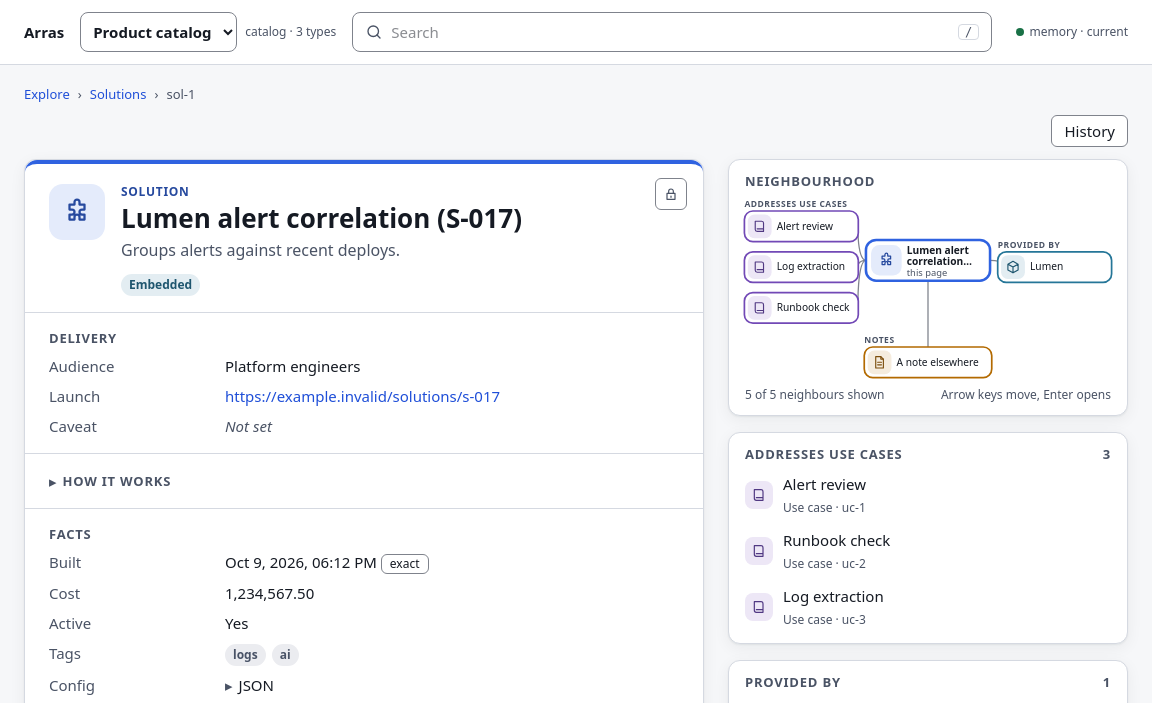
Test: Retire on a node page (FR-68) › shows a refusal in the dialog and applies nothing
Click the button named "Edit mode" at [671, 194], box [655,178,687,210]
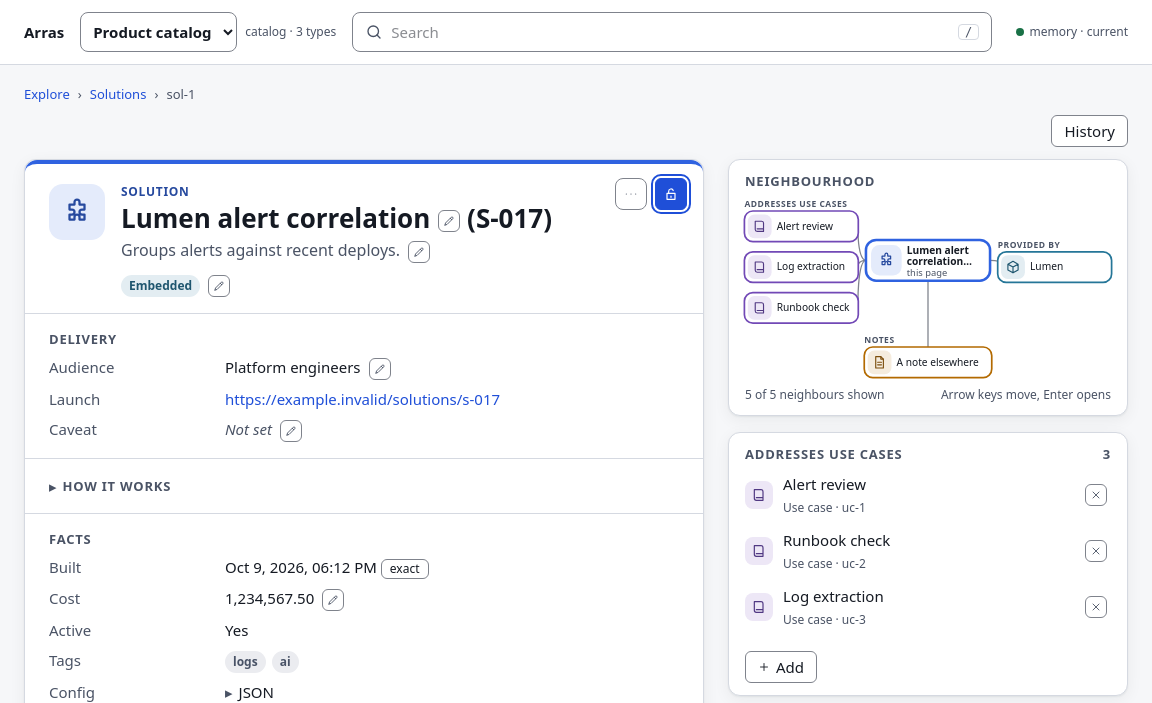
Click the button named "Entity menu" at [631, 194], box [615,178,647,210]
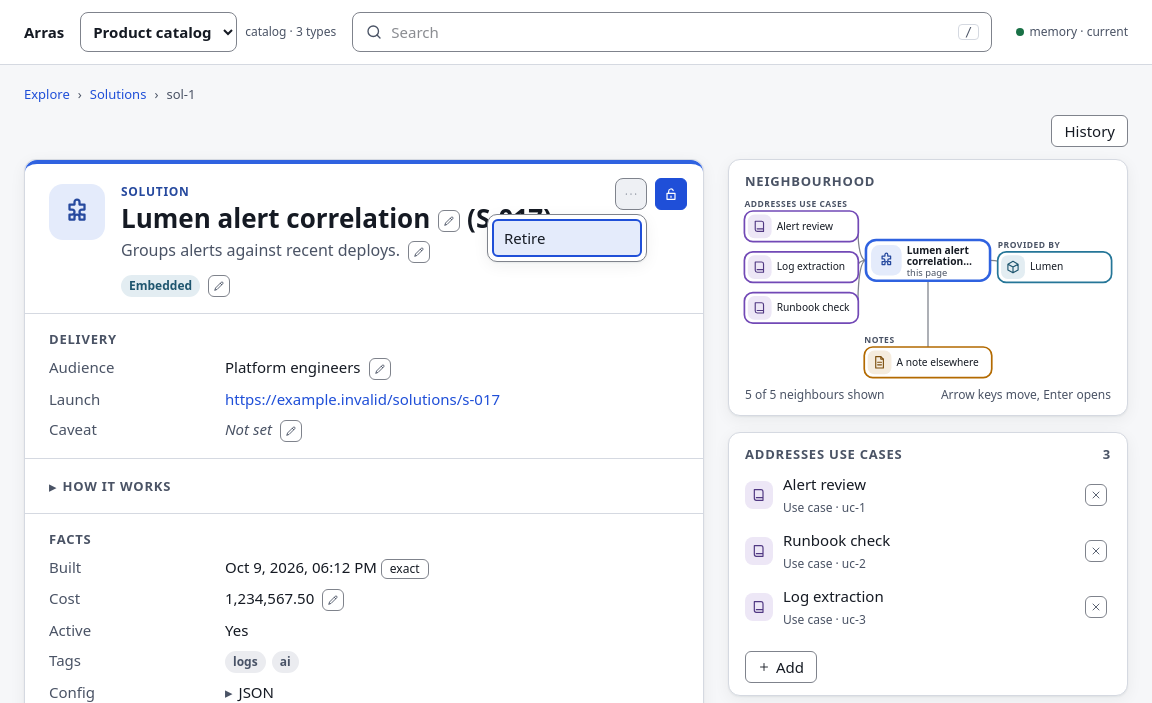
Click the menu item "Retire" at [567, 238], box [492,219,642,257]
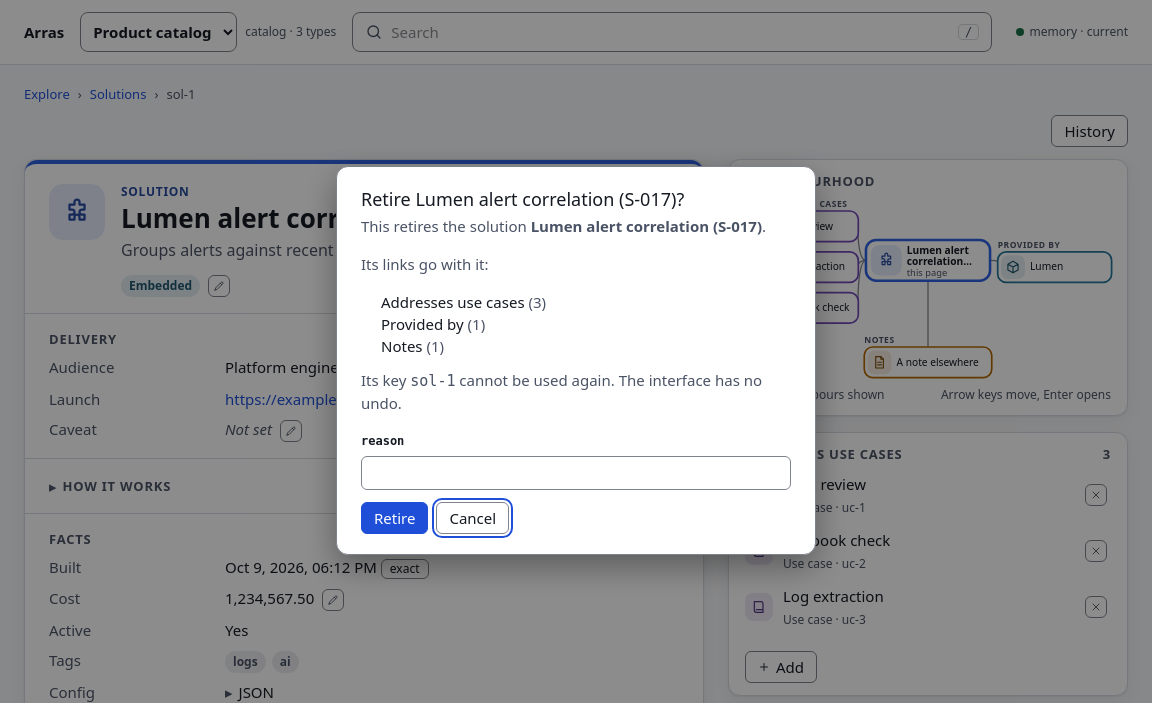
Click the button "Retire" at [395, 518], box [361,502,428,534]
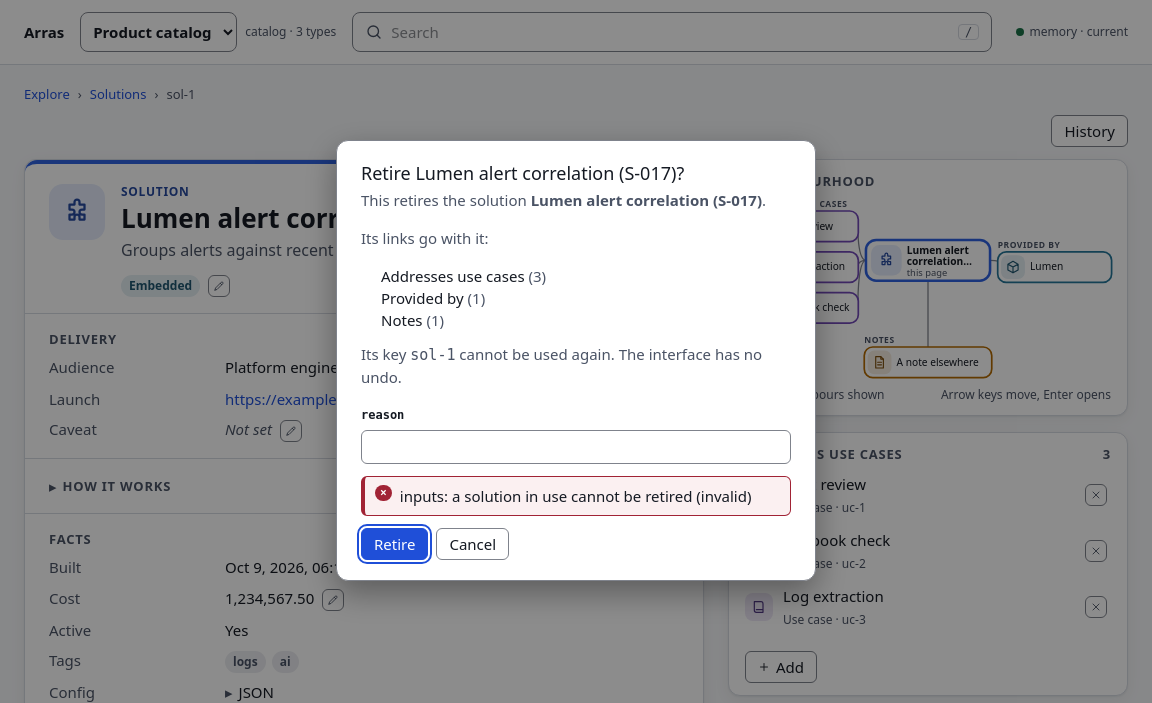
Check: the dialog is shown, box [336,140,816,580]
Check: the message shows "a solution in use cannot be retired", box [400,486,752,506]
